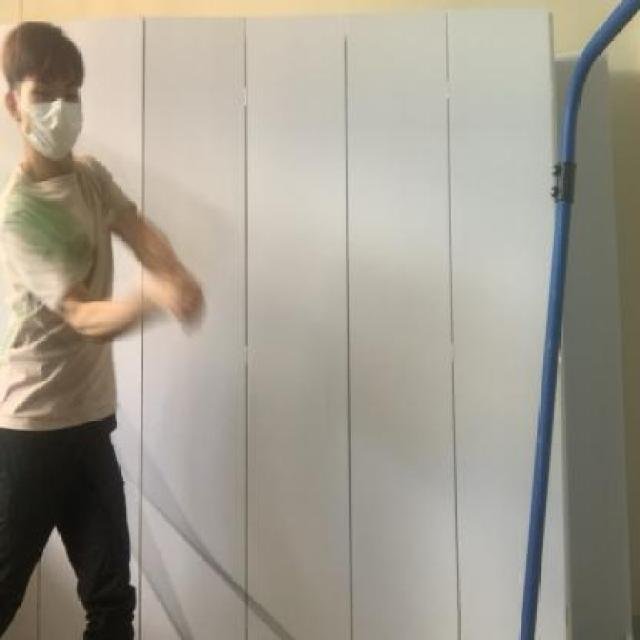baseball: (5, 192, 86, 266)
